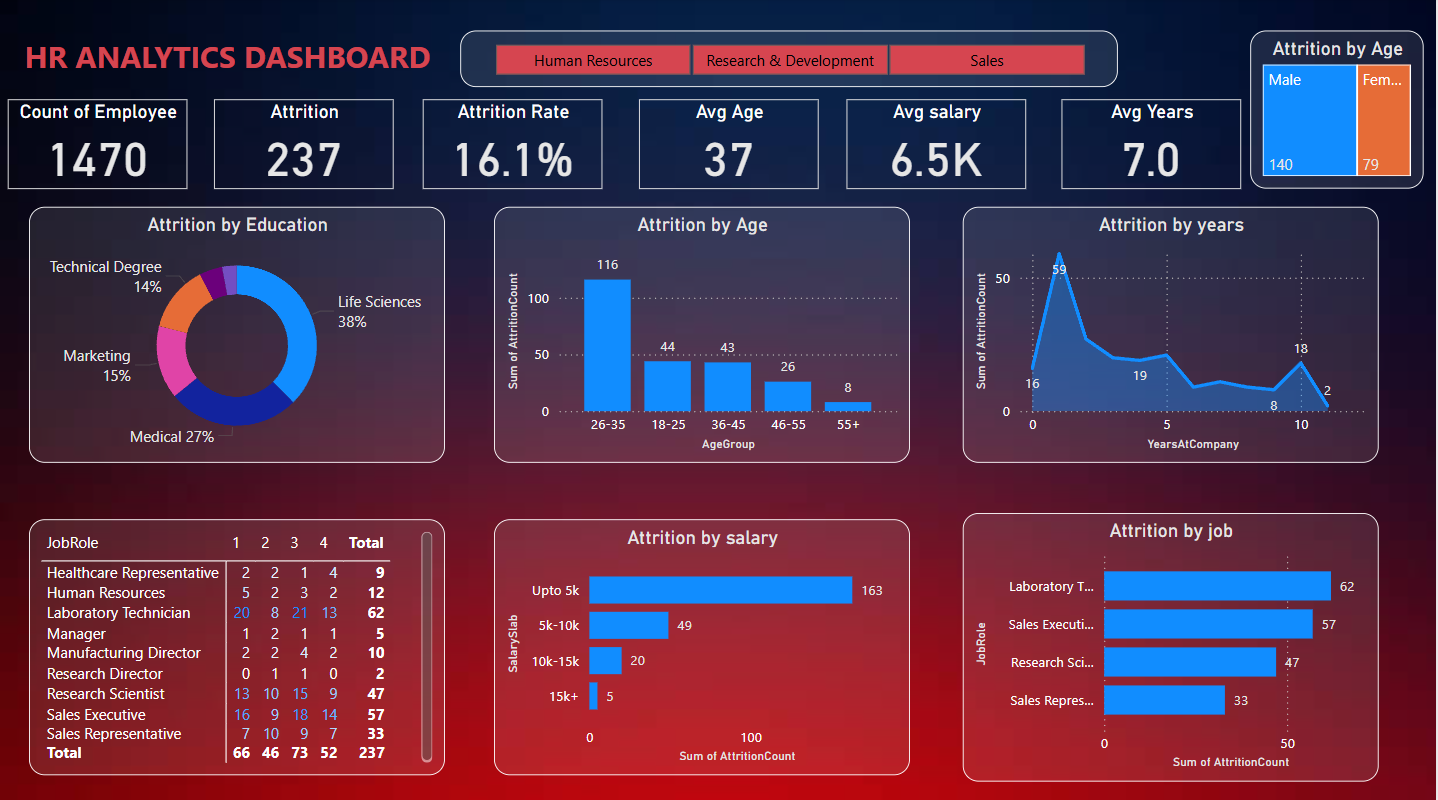

What the dashboard file says about the page in this screenshot:
{"tool":"powerbi","page":{"name":"Page 1","canvas":[1280,720],"ordinal":0},"visuals":[{"type":"card","title":"Count of Employee","fields":{"Values":["CountNonNull(HR_Analytics.EmpID)"]},"box":[7.8,90,160,80],"z":0},{"type":"card","title":"Attrition","fields":{"Values":["Sum(HR_Analytics.AttritionCount)"]},"box":[191.1,90,160,80],"z":1000},{"type":"card","title":"Avg Age","fields":{"Values":["Avg(HR_Analytics.Age)"]},"box":[570,90,160,80],"z":2000},{"type":"card","title":"Attrition Rate","fields":{"Values":["HR_Analytics.AttritionRate"]},"box":[377.8,90,160,80],"z":3000},{"type":"card","title":"Avg salary","fields":{"Values":["Avg(HR_Analytics.MonthlyIncome)"]},"box":[754.4,90,160,80],"z":4000},{"type":"card","title":"Avg Years","fields":{"Values":["Avg(HR_Analytics.YearsAtCompany)"]},"box":[946.7,90,160,80],"z":5000},{"type":"donutChart","title":" Attrition by Education","fields":{"Category":["HR_Analytics.EducationField"],"Y":["Sum(HR_Analytics.AttritionCount)"]},"box":[26.7,185.6,370,227.8],"z":6000},{"type":"columnChart","title":" Attrition by Age","fields":{"Category":["HR_Analytics.AgeGroup"],"Y":["Sum(HR_Analytics.AttritionCount)"]},"box":[441.1,185.6,370,227.8],"z":7000},{"type":"pivotTable","fields":{"Rows":["HR_Analytics.JobRole"],"Columns":["HR_Analytics.JobSatisfaction"],"Values":["Sum(HR_Analytics.AttritionCount)"]},"box":[26.7,464.4,370,227.8],"z":8000},{"type":"barChart","title":" Attrition by salary","fields":{"Category":["HR_Analytics.SalarySlab"],"Y":["Sum(HR_Analytics.AttritionCount)"]},"box":[441.1,464.4,370,227.8],"z":9000},{"type":"barChart","title":" Attrition by job","fields":{"Y":["Sum(HR_Analytics.AttritionCount)"],"Category":["HR_Analytics.JobRole"]},"box":[857.8,458.9,370,238.9],"z":10000},{"type":"areaChart","title":" Attrition by years","fields":{"Category":["HR_Analytics.YearsAtCompany"],"Y":["Sum(HR_Analytics.AttritionCount)"]},"box":[857.8,185.6,370,227.8],"z":11000},{"type":"treemap","title":" Attrition by Age","fields":{"Values":["Sum(HR_Analytics.AttritionCount)"],"Group":["HR_Analytics.Gender"]},"box":[1114.4,28.9,154.4,141.1],"z":12000},{"type":"slicer","fields":{"Values":["HR_Analytics.Department"]},"box":[411.1,28.9,585.6,50],"z":13000},{"type":"textbox","box":[17.8,28.9,407.8,50],"z":14000}]}

Visuals, with their boxes in screenshot pixels (x1, y1, x2, y2), scaled from the page's 1280x720 canvas onto the 1438x800 screenshot:
"Count of Employee" card: crop(9, 100, 189, 189)
"Attrition" card: crop(215, 100, 394, 189)
"Avg Age" card: crop(640, 100, 820, 189)
"Attrition Rate" card: crop(424, 100, 604, 189)
"Avg salary" card: crop(848, 100, 1027, 189)
"Avg Years" card: crop(1064, 100, 1243, 189)
" Attrition by Education" donutChart: crop(30, 206, 446, 459)
" Attrition by Age" columnChart: crop(496, 206, 911, 459)
pivotTable - HR_Analytics.JobRole x HR_Analytics.JobSatisfaction: crop(30, 516, 446, 769)
" Attrition by salary" barChart: crop(496, 516, 911, 769)
" Attrition by job" barChart: crop(964, 510, 1379, 775)
" Attrition by years" areaChart: crop(964, 206, 1379, 459)
" Attrition by Age" treemap: crop(1252, 32, 1425, 189)
slicer - HR_Analytics.Department: crop(462, 32, 1120, 88)
textbox: crop(20, 32, 478, 88)
